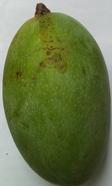Unripe: (0, 1, 112, 186)
